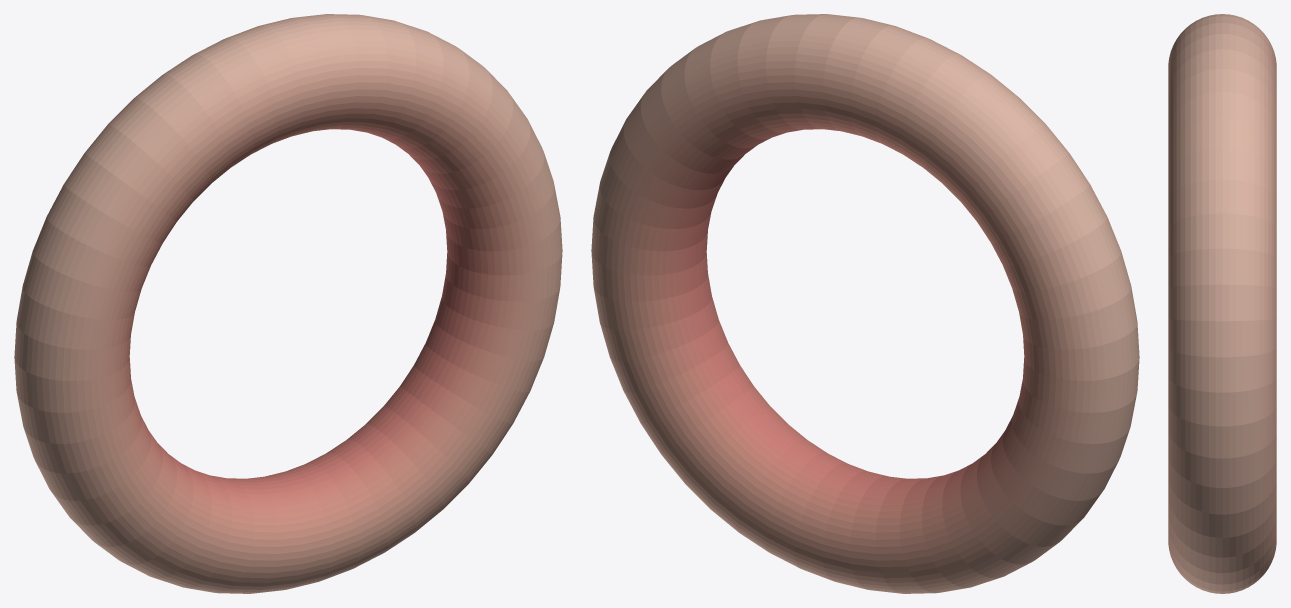
The picture shows the model from 3 angles, left to right: view 1: azimuth 30°, elevation 25°; view 2: azimuth 150°, elevation 25°; view 3: azimuth 270°, elevation 25°; orthographic projection. The views are drawn at different scales.
Parts seen in each view (by area): view 1: world; view 2: world; view 3: world.
Boxes of the visible parts, box(x1,y1,x2,y2) form: world: box(14, 14, 562, 593); world: box(591, 14, 1139, 593); world: box(1168, 14, 1276, 593).
Bounding box in the file's own units: 32 × 31.94 × 5.99.
